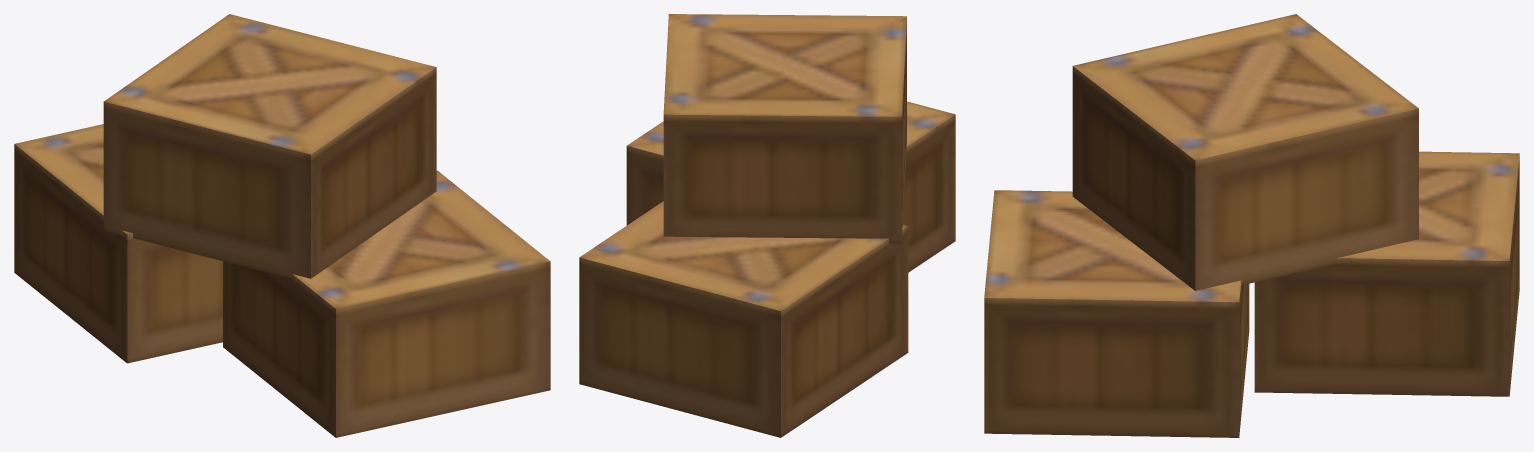
The model's file is area_06_24.fbx.
The picture shows the model from 3 angles, left to right: view 1: azimuth 30°, elevation 25°; view 2: azimuth 150°, elevation 25°; view 3: azimuth 270°, elevation 25°; orthographic projection. The views are drawn at different scales.
Visible parts, largest first — view 1: area_06_24; view 2: area_06_24; view 3: area_06_24.
Part boxes in pixels (x1,y1,x2,y2): area_06_24: [14, 14, 550, 437]; area_06_24: [579, 14, 955, 437]; area_06_24: [984, 14, 1519, 437].
Size of the model in its own units: 2.72 by 2.14 by 3.9.
